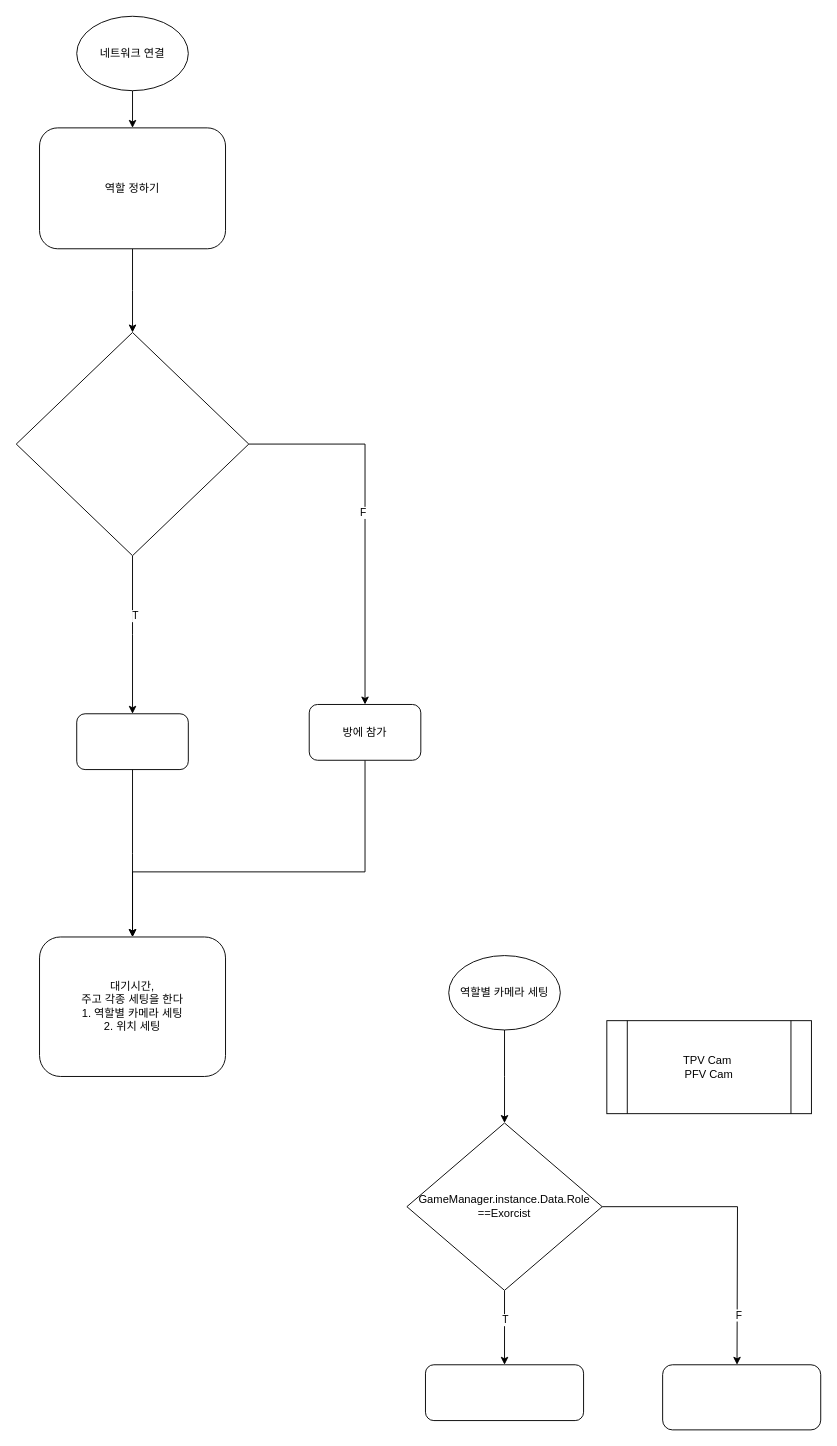
Some shapes in this 837 by 1446 pixel diagram are drawn without their labels. The box of each missing label's shape, as (x1, y1, x2, y2) in pixels:
FPV Cam. Enable FPV Cam.Follow=Character: (425, 1364, 584, 1421)
TPV Cam. Enable TPV Cam.Follow=Character: (662, 1364, 821, 1430)
방을 만듬: (76, 713, 188, 770)
퇴마사: (15, 332, 249, 556)
